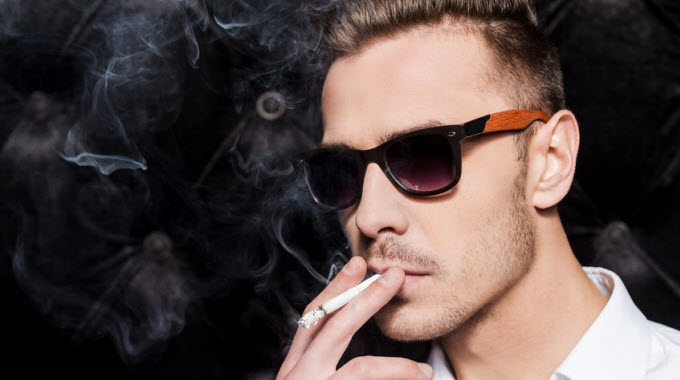cigarette: (274, 270, 389, 325)
